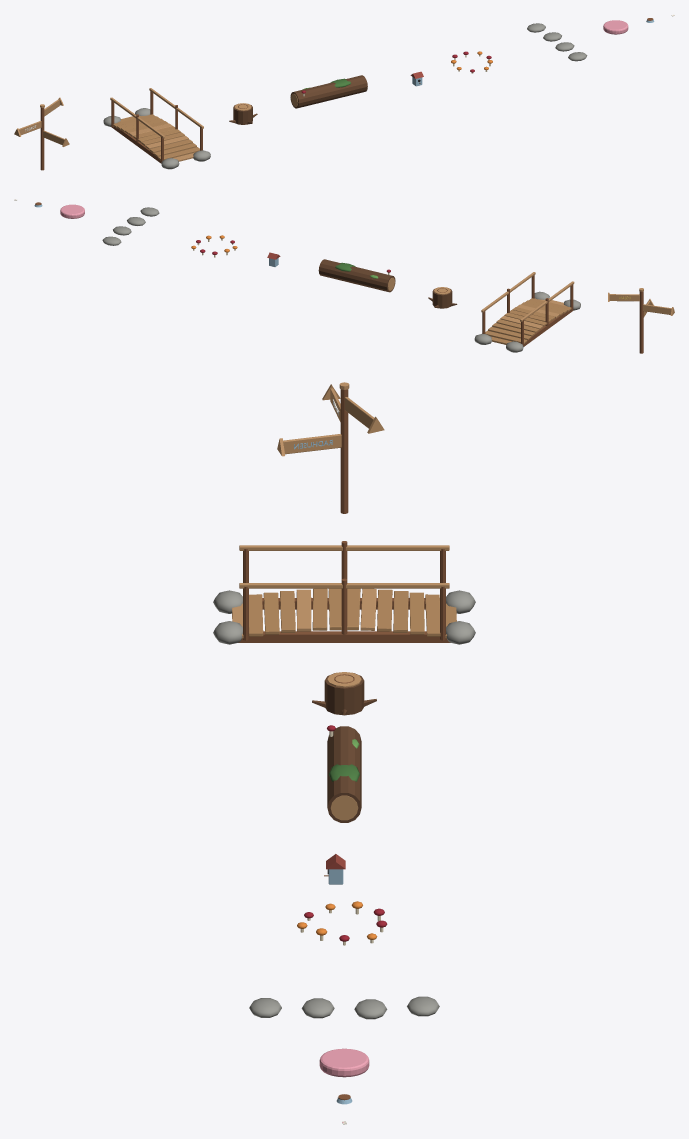
The model's file is forest-props.glb.
3 views of the same model, one above another, from view 1: azimuth 30°, elevation 25°; view 2: azimuth 150°, elevation 25°; view 3: azimuth 270°, elevation 25° (orthographic). The views are drawn at different scales.
Parts seen in each view (by area): view 1: log, bed_rim, post, stump; view 2: log, bed_rim, stump, post; view 3: log, beam.001, rail, rail.001, bed_rim, stump.
Boxes of the visible parts, <box> form: log: <box>290,75,367,108</box>; bed_rim: <box>603,20,628,34</box>; post: <box>40,108,44,170</box>; stump: <box>233,105,252,124</box>; log: <box>318,259,395,292</box>; bed_rim: <box>60,204,84,218</box>; stump: <box>432,288,452,308</box>; post: <box>639,291,643,353</box>; log: <box>327,726,361,822</box>; beam.001: <box>238,631,450,642</box>; rail: <box>239,545,449,550</box>; rail.001: <box>239,583,449,588</box>; bed_rim: <box>319,1048,369,1077</box>; stump: <box>324,673,364,715</box>.
Bounding box in the file's own units: 23.08 × 2.29 × 4.
